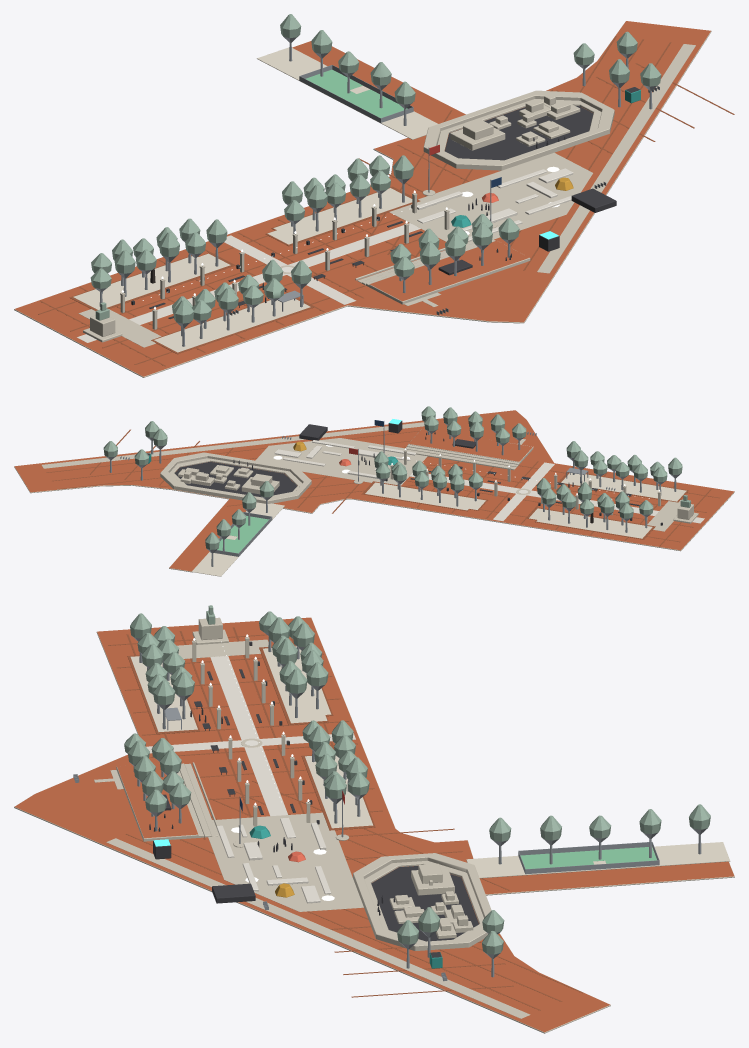
3 views of the same model, one above another, from view 1: azimuth 30°, elevation 25°; view 2: azimuth 150°, elevation 25°; view 3: azimuth 270°, elevation 25° (orthographic). The views are drawn at different scales.
Visible parts, largest first — view 1: grp_Toy_brick_Toy_stone, grp_Toy_stone, grp_Toy_verdigris, grp_Toy_sand, grp_Toy_rust, grp_Toy_steel, grp_Toy_cream, fount_floor, arm_strip, grp_Toy_roofd, arm_dogrun; view 2: grp_Toy_brick_Toy_stone, grp_Toy_stone, grp_Toy_verdigris, grp_Toy_sand, grp_Toy_rust, grp_Toy_steel, grp_Toy_cream, fount_floor, grp_Toy_roofd, arm_strip, arm_dogrun; view 3: grp_Toy_brick_Toy_stone, grp_Toy_stone, grp_Toy_verdigris, grp_Toy_rust, grp_Toy_cream, grp_Toy_sand, grp_Toy_steel, fount_floor, arm_strip, grp_Toy_roofd, arm_dogrun.
Part boxes in pixels (x1=…): grp_Toy_brick_Toy_stone: x1=14, y1=21, x2=711, y2=377; grp_Toy_stone: x1=78, y1=44, x2=695, y2=347; grp_Toy_verdigris: x1=90, y1=14, x2=661, y2=323; grp_Toy_sand: x1=73, y1=188, x2=412, y2=352; grp_Toy_rust: x1=38, y1=36, x2=734, y2=366; grp_Toy_steel: x1=94, y1=35, x2=659, y2=346; grp_Toy_cream: x1=77, y1=168, x2=573, y2=342; fount_floor: x1=445, y1=106, x2=593, y2=160; arm_strip: x1=257, y1=47, x2=437, y2=139; grp_Toy_roofd: x1=131, y1=136, x2=616, y2=318; arm_dogrun: x1=305, y1=69, x2=407, y2=117; grp_Toy_brick_Toy_stone: x1=14, y1=410, x2=734, y2=572; grp_Toy_stone: x1=41, y1=422, x2=698, y2=531; grp_Toy_verdigris: x1=103, y1=406, x2=690, y2=549; grp_Toy_sand: x1=365, y1=473, x2=686, y2=538; grp_Toy_rust: x1=46, y1=428, x2=719, y2=546; grp_Toy_steel: x1=105, y1=421, x2=680, y2=566; grp_Toy_cream: x1=274, y1=440, x2=704, y2=523; fount_floor: x1=174, y1=461, x2=296, y2=497; grp_Toy_roofd: x1=233, y1=421, x2=662, y2=525; arm_strip: x1=191, y1=502, x2=284, y2=576; arm_dogrun: x1=217, y1=515, x2=268, y2=553; grp_Toy_brick_Toy_stone: x1=14, y1=617, x2=734, y2=1033; grp_Toy_stone: x1=94, y1=617, x2=530, y2=1018; grp_Toy_verdigris: x1=124, y1=605, x2=710, y2=954; grp_Toy_rust: x1=108, y1=623, x2=583, y2=1010; grp_Toy_cream: x1=146, y1=656, x2=355, y2=903; grp_Toy_sand: x1=130, y1=646, x2=373, y2=828; grp_Toy_steel: x1=73, y1=632, x2=707, y2=981; fount_floor: x1=371, y1=866, x2=478, y2=941; arm_strip: x1=466, y1=842, x2=730, y2=878; grp_Toy_roofd: x1=149, y1=641, x2=395, y2=915; arm_dogrun: x1=520, y1=847, x2=656, y2=869.
Bounding box in the file's own units: 215 × 13 × 158.
